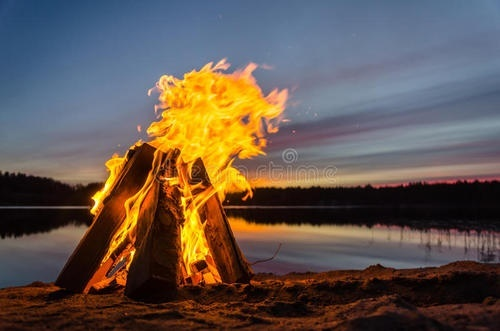fire: (86, 48, 293, 292)
